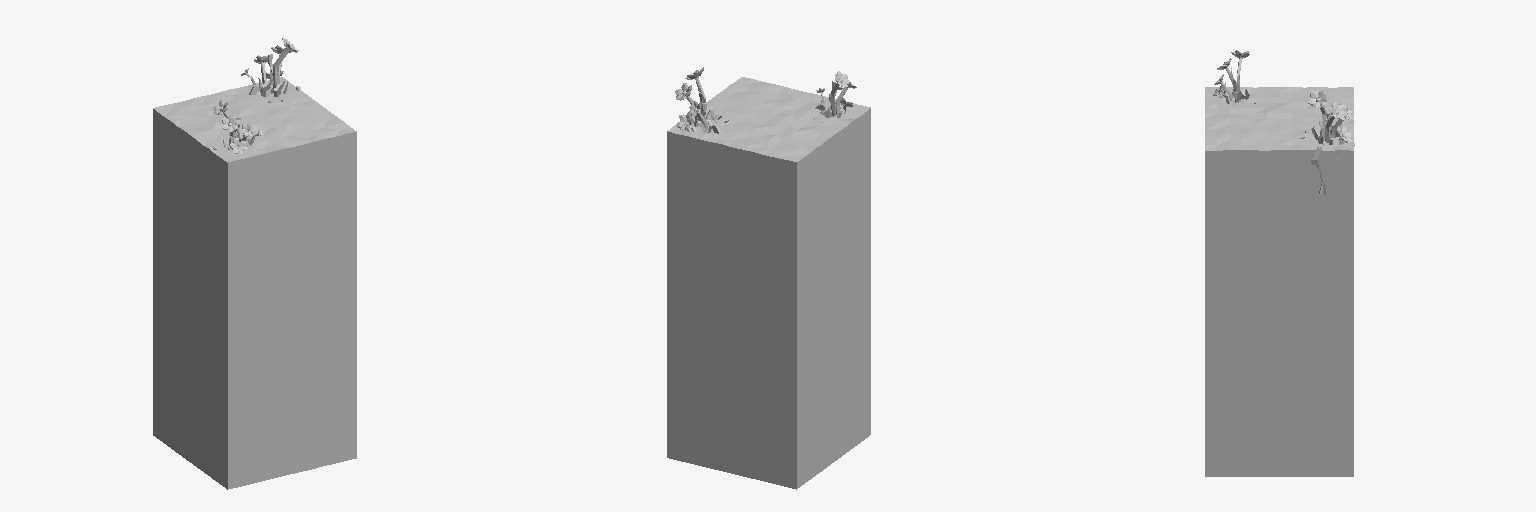
The model's file is grass2.obj.
The picture shows the model from 3 angles: view 1: azimuth 30°, elevation 25°; view 2: azimuth 150°, elevation 25°; view 3: azimuth 270°, elevation 25°; orthographic projection.
Visible parts, largest first — view 1: Cube.075; view 2: Cube.075; view 3: Cube.075.
Boxes of the visible parts, x1,y1,x2,y2 form: Cube.075: [153, 77, 356, 489]; Cube.075: [667, 77, 870, 489]; Cube.075: [1205, 87, 1353, 476].
Bounding box in the file's own units: 19.77 × 54.59 × 19.52.